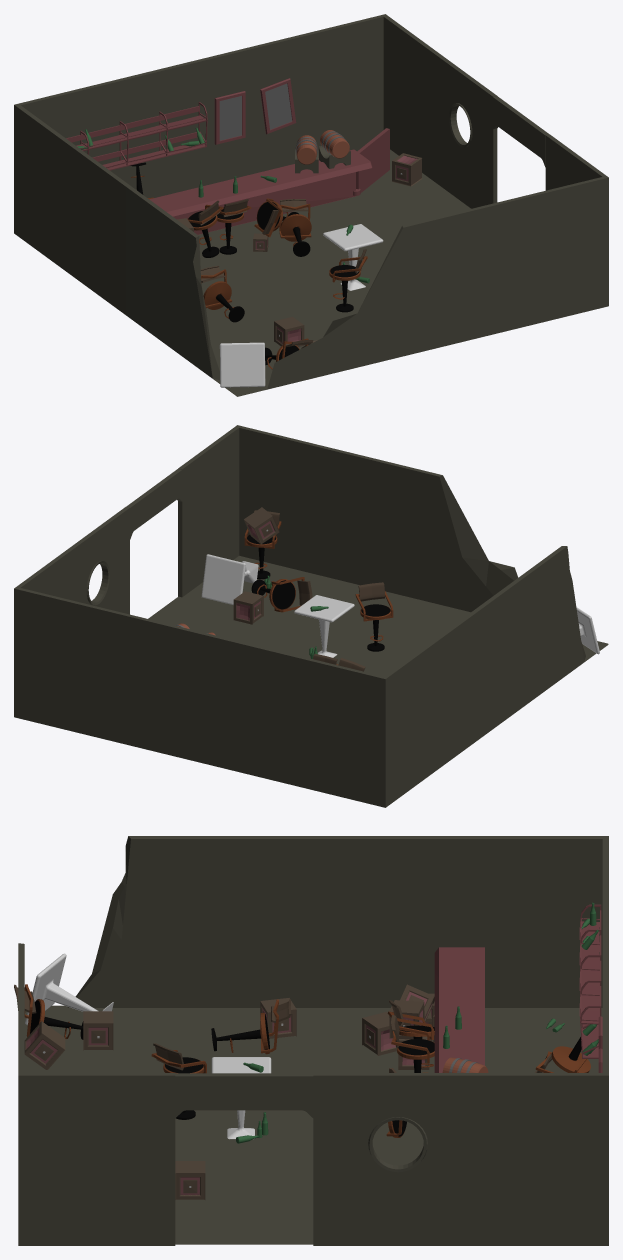
The model's file is Bar.fbx.
3 views of the same model, one above another, from view 1: azimuth 30°, elevation 25°; view 2: azimuth 150°, elevation 25°; view 3: azimuth 270°, elevation 25° (orthographic). The views are drawn at different scales.
Visible parts, largest first — view 1: FloorWithArch, Floor, Bar Table, Shelf.002, Table.007, Open door top, Chair.010, Cube.001, Table.006, Chair.002, Chair.006, IMAGE TO ADD.002 (+11 smaller); view 2: FloorWithArch, Floor, Table.002, Open door top, Chair.005, Chair.006, Table.006, Box.014, Box.017, Chair.011, Table.007; view 3: FloorWithArch, Floor, Bar Table, Open door top, Shelf.002, Table.007, Table.006, Box.010, Chair.002, Box.016, Box.014, Chair.001 (+8 smaller).
Part boxes in pixels (x1=…): FloorWithArch: x1=14, y1=14, x2=608, y2=396; Floor: x1=198, y1=149, x2=470, y2=395; Bar Table: x1=149, y1=149, x2=372, y2=234; Shelf.002: x1=66, y1=102, x2=207, y2=170; Table.007: x1=219, y1=342, x2=265, y2=387; Open door top: x1=493, y1=96, x2=548, y2=167; Chair.010: x1=279, y1=199, x2=311, y2=256; Cube.001: x1=356, y1=128, x2=389, y2=192; Table.006: x1=323, y1=224, x2=383, y2=290; Chair.002: x1=200, y1=265, x2=244, y2=322; Chair.006: x1=329, y1=249, x2=367, y2=312; IMAGE TO ADD.002: x1=265, y1=83, x2=292, y2=129; FloorWithArch: x1=14, y1=425, x2=608, y2=807; Floor: x1=148, y1=555, x2=607, y2=676; Table.002: x1=201, y1=554, x2=258, y2=604; Open door top: x1=126, y1=469, x2=182, y2=539; Chair.005: x1=251, y1=577, x2=312, y2=612; Chair.006: x1=355, y1=582, x2=393, y2=651; Table.006: x1=294, y1=595, x2=354, y2=657; Box.014: x1=233, y1=591, x2=263, y2=624; Box.017: x1=244, y1=507, x2=279, y2=544; Chair.011: x1=244, y1=510, x2=281, y2=579; Table.007: x1=576, y1=607, x2=599, y2=654; FloorWithArch: x1=16, y1=836, x2=608, y2=1245; Floor: x1=24, y1=1005, x2=602, y2=1244; Bar Table: x1=434, y1=947, x2=484, y2=1072; Open door top: x1=175, y1=1073, x2=313, y2=1118; Shelf.002: x1=579, y1=904, x2=601, y2=1058; Table.007: x1=25, y1=953, x2=113, y2=1024; Table.006: x1=211, y1=1057, x2=271, y2=1139; Box.010: x1=24, y1=1021, x2=65, y2=1069; Chair.002: x1=211, y1=999, x2=290, y2=1054; Box.016: x1=83, y1=1011, x2=113, y2=1050; Box.014: x1=175, y1=1161, x2=205, y2=1199; Chair.001: x1=391, y1=1015, x2=434, y2=1072.
Size of the model in its own units: 1923 by 631 by 1989.
